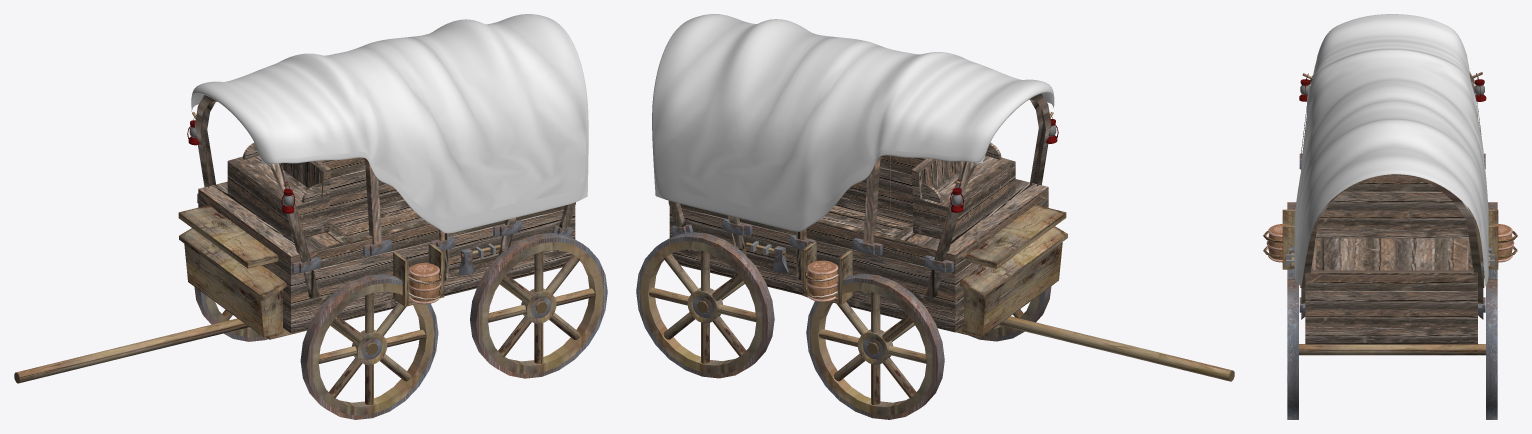
The model's file is mache.glb.
3 renders of one model, left to right at view 1: azimuth 30°, elevation 25°; view 2: azimuth 150°, elevation 25°; view 3: azimuth 270°, elevation 25°, orthographic. The views are drawn at different scales.
Parts seen in each view (by area): view 1: Object_7, Object_9, Object_11, lun1, lun2, Object_12, Object_8; view 2: Object_7, Object_9, Object_11, lun1, lun2, Object_12, Object_8; view 3: Object_7, Object_9, lun2, Object_11, Object_8, Object_12, Object_6, lun1, Object_5, Object_4.
Part boxes in pixels (<box>): Object_7: <box>191,14,588,233</box>; Object_9: <box>194,95,575,333</box>; Object_11: <box>14,112,516,383</box>; lun1: <box>194,274,438,419</box>; lun2: <box>470,233,607,378</box>; Object_12: <box>197,193,573,275</box>; Object_8: <box>408,263,440,304</box>; Object_7: <box>652,14,1054,231</box>; Object_9: <box>668,93,1051,332</box>; Object_11: <box>728,112,1234,381</box>; lun1: <box>806,273,1051,419</box>; lun2: <box>636,232,807,378</box>; Object_12: <box>670,218,953,272</box>; Object_8: <box>806,260,838,301</box>; Object_7: <box>1294,14,1488,286</box>; Object_9: <box>1301,71,1483,344</box>; lun2: <box>1287,279,1497,419</box>; Object_11: <box>1282,72,1498,287</box>; Object_8: <box>1267,224,1513,262</box>; Object_12: <box>1289,153,1491,315</box>; Object_6: <box>1266,225,1514,262</box>; lun1: <box>1287,202,1497,278</box>; Object_5: <box>1263,231,1517,257</box>; Object_4: <box>1299,79,1486,101</box>.
Bounding box in the file's own units: 64.98 × 35.73 × 28.34.
11 materials, 11 textured.
